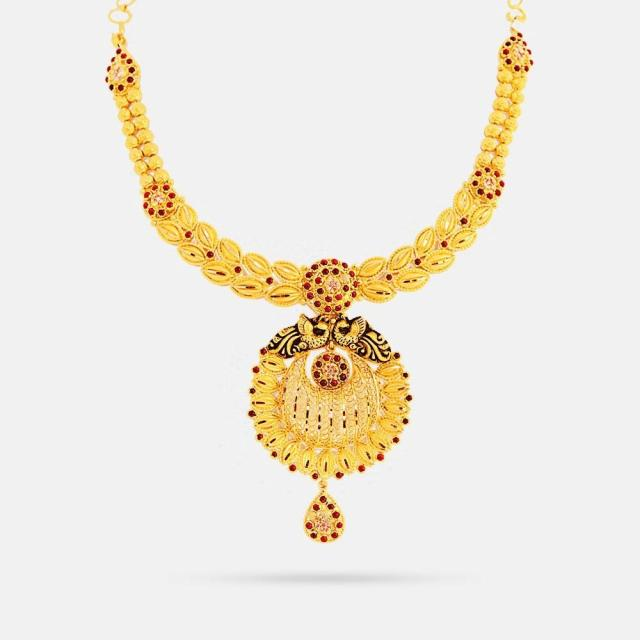missing gem: (308, 512, 317, 521), (340, 274, 348, 282)
